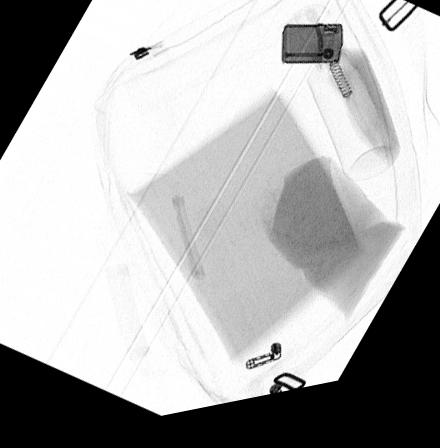Lighter: (280, 35, 342, 76)
